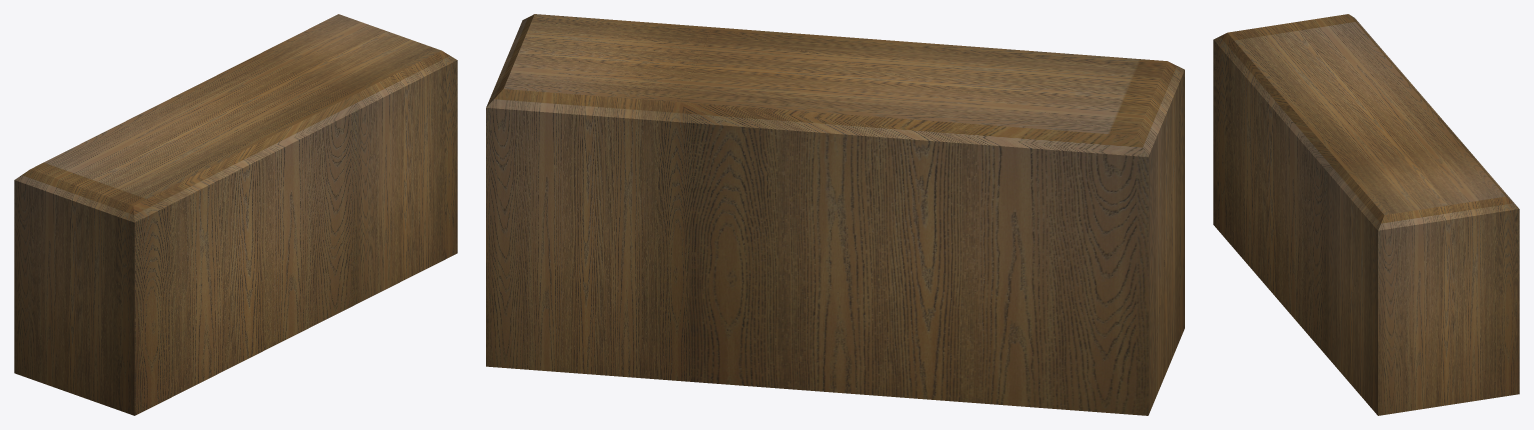
Rendered from Obstacle_034.obj.
3 views of the same model, side by side, from view 1: azimuth 30°, elevation 25°; view 2: azimuth 150°, elevation 25°; view 3: azimuth 270°, elevation 25° (orthographic). The views are drawn at different scales.
Visible parts, largest first — view 1: Box101; view 2: Box101; view 3: Box101.
Part boxes in pixels (x1,y1,x2,y2): Box101: (14,14,457,415); Box101: (486,14,1184,415); Box101: (1213,14,1519,415).
Bounding box in the file's own units: 92.2 × 39.37 × 56.03.
